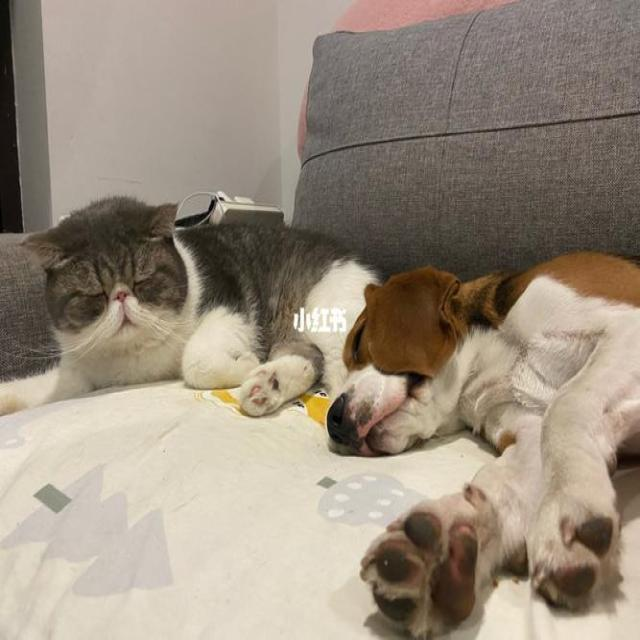cat: (19, 146, 206, 408)
dog: (322, 245, 484, 483)
